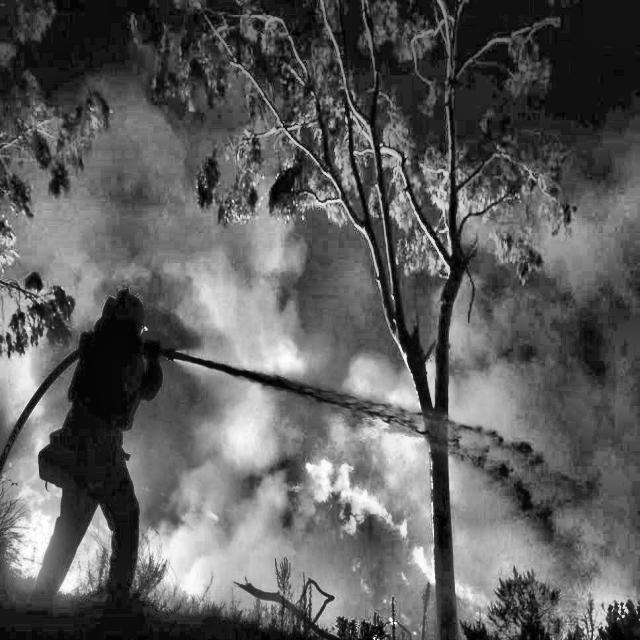fire: (4, 132, 600, 640)
